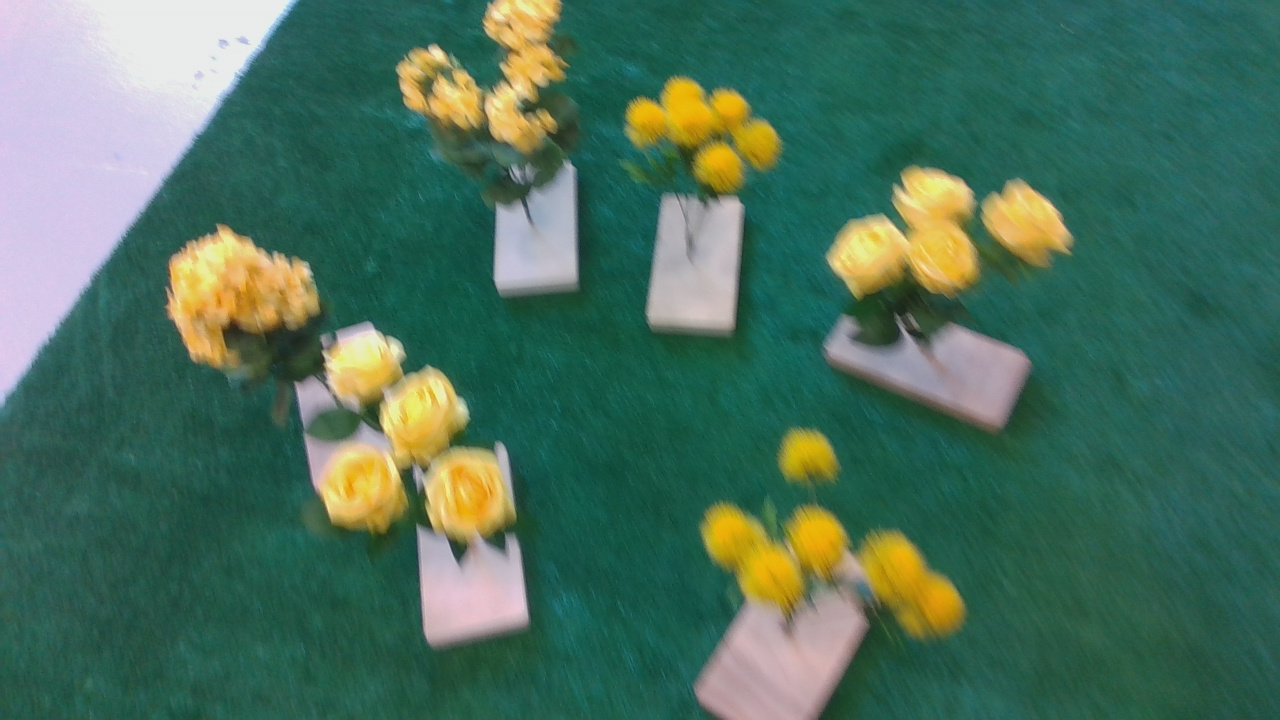dandelion: (690, 431, 981, 659), (615, 72, 796, 208)
geranium: (394, 4, 592, 213), (153, 226, 327, 387)
rose: (329, 334, 554, 553), (808, 161, 1091, 327)
